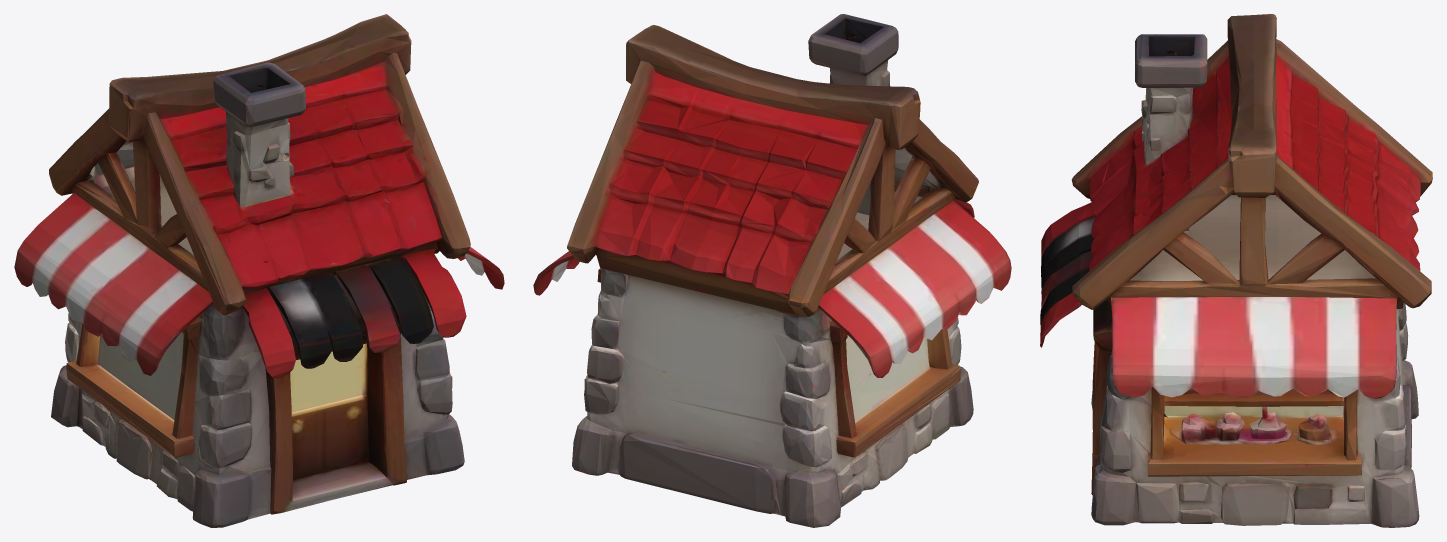
The model's file is b-bakery.glb.
3 renders of one model, left to right at view 1: azimuth 30°, elevation 25°; view 2: azimuth 150°, elevation 25°; view 3: azimuth 270°, elevation 25°, orthographic. The views are drawn at different scales.
Parts seen in each view (by area): view 1: geometry_0; view 2: geometry_0; view 3: geometry_0.
Boxes of the visible parts, x1,y1,x2,y2 form: geometry_0: (14,14,504,527); geometry_0: (533,14,1011,527); geometry_0: (1040,14,1432,527).
Bounding box in the file's own units: 0.9116 × 0.9962 × 0.8859.
Materials: 1 (1 with a texture image).
